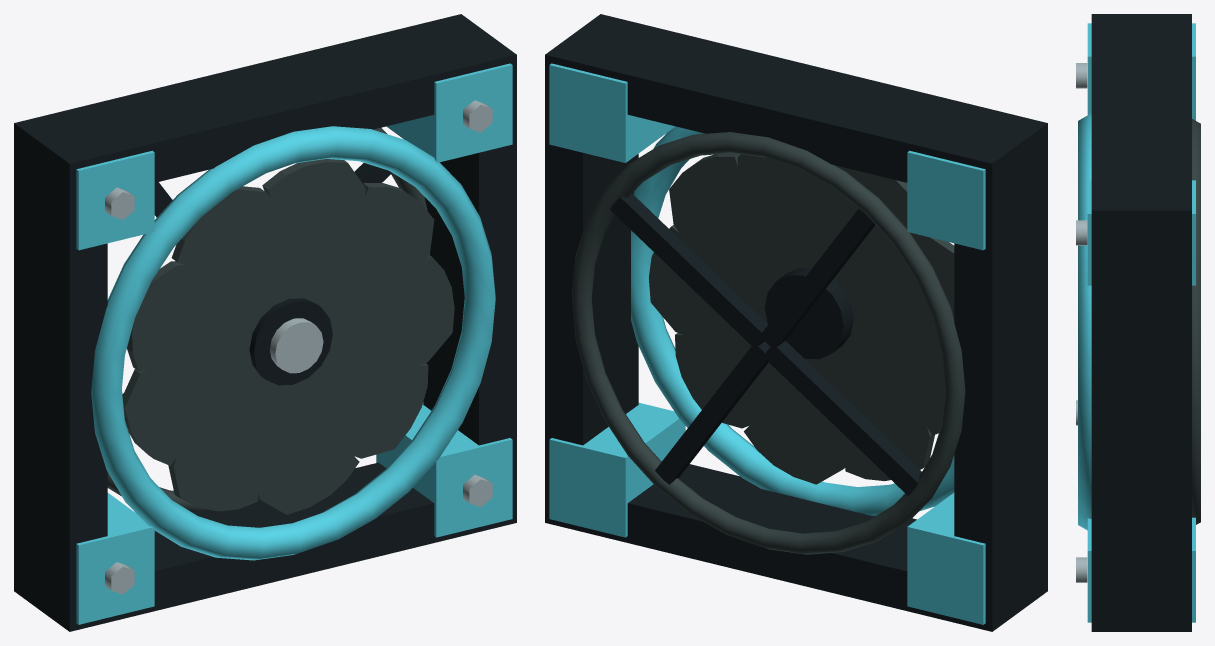
The model's file is fan-pressure-140.glb.
The picture shows the model from 3 angles, left to right: view 1: azimuth 30°, elevation 25°; view 2: azimuth 150°, elevation 25°; view 3: azimuth 270°, elevation 25°; orthographic projection. The views are drawn at different scales.
Parts seen in each view (by area): view 1: Rubber and ABS (×2), Anodized graphite, Coolant blue, fan-rotor, Brushed aluminium, fan-pressure-140; view 2: Rubber and ABS (×2), Anodized graphite, Coolant blue, fan-pressure-140, fan-rotor; view 3: Rubber and ABS, Coolant blue, fan-pressure-140, Brushed aluminium.
Boxes of the visible parts, x1,y1,x2,y2 form: Rubber and ABS (×2): (14,14,516,631); Anodized graphite: (122,159,454,514); Coolant blue: (76,63,512,624); fan-rotor: (249,298,332,385); Brushed aluminium: (105,100,492,594); fan-pressure-140: (107,127,427,511); Rubber and ABS (×2): (545,14,1047,631); Anodized graphite: (648,153,954,484); Coolant blue: (549,63,985,624); fan-pressure-140: (572,132,965,554); fan-rotor: (764,268,853,359); Rubber and ABS: (1091,14,1191,631); Coolant blue: (1078,23,1195,622); fan-pressure-140: (1192,119,1200,524); Brushed aluminium: (1076,63,1087,582).
Size of the model in its own units: 1.16 by 1.16 by 0.3111.
